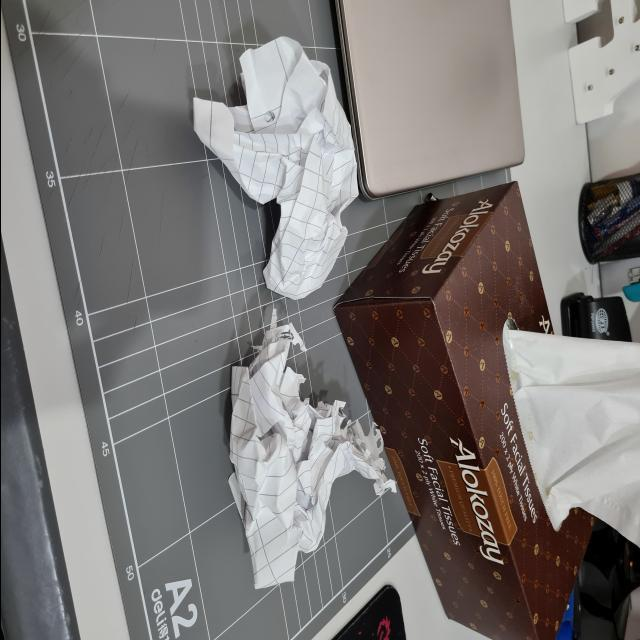Paper: (213, 295, 414, 592), (176, 10, 373, 313)
